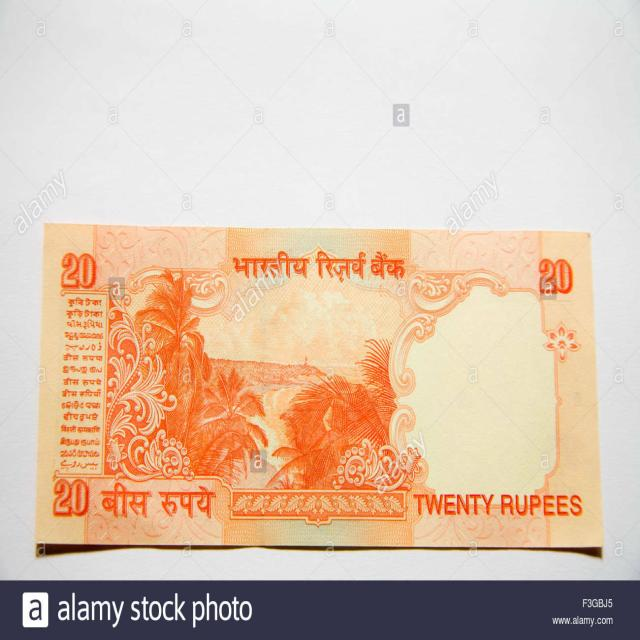20IndianRupees: (32, 202, 638, 568)
